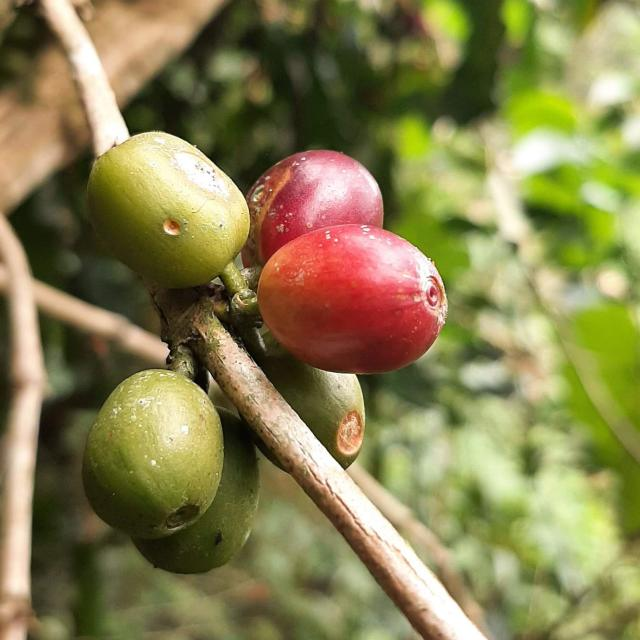green: (87, 131, 249, 288), (82, 370, 223, 540), (131, 408, 259, 575), (261, 353, 364, 469)
red: (257, 224, 448, 374), (241, 150, 384, 266)
